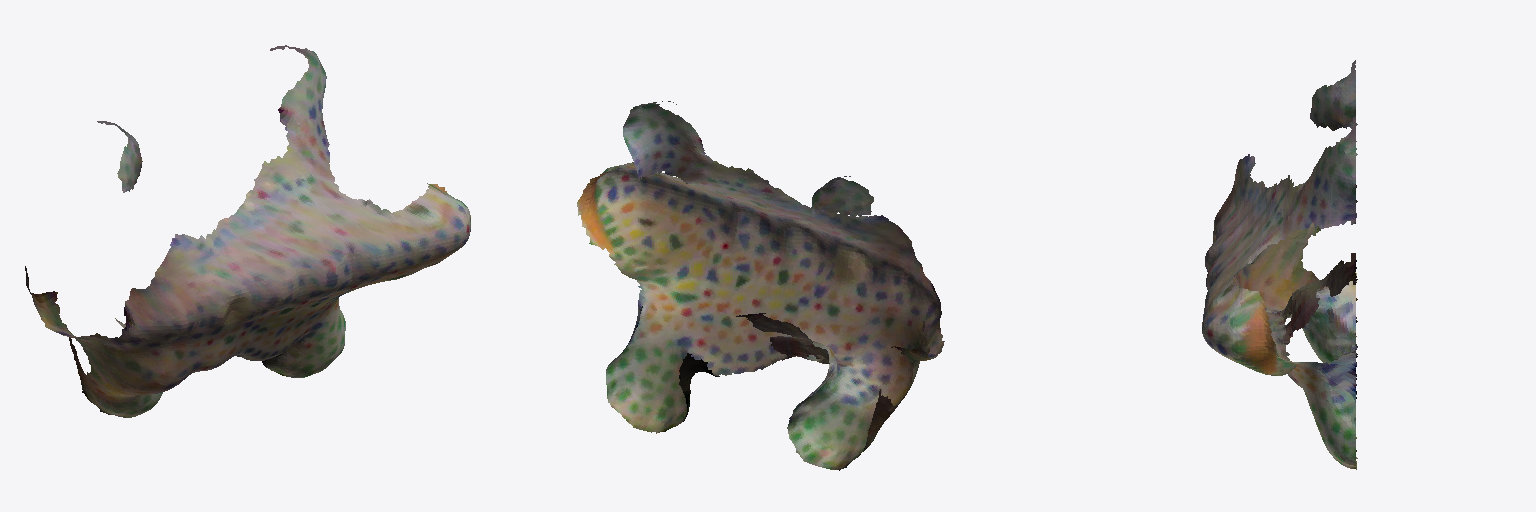
3 renders of one model, left to right at view 1: azimuth 30°, elevation 25°; view 2: azimuth 150°, elevation 25°; view 3: azimuth 270°, elevation 25°, orthographic.
Size of the model in its own units: 113 by 93.63 by 39.51.
Materials: 1 (1 with a texture image).